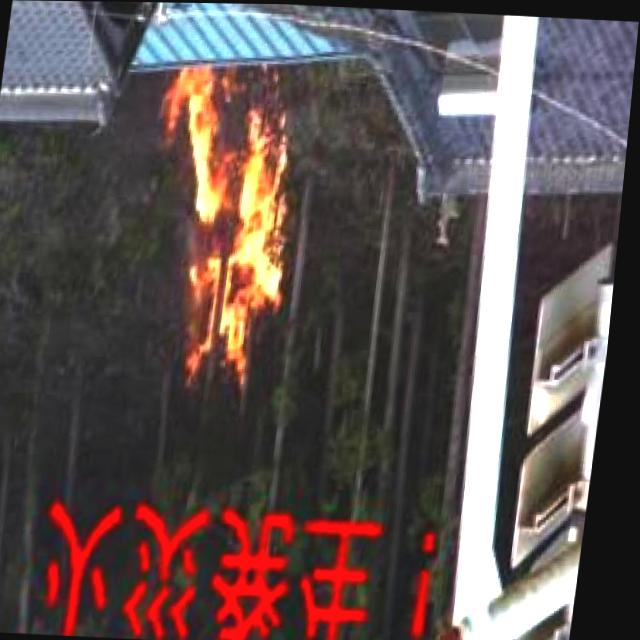no_helmet: (128, 55, 321, 420)
